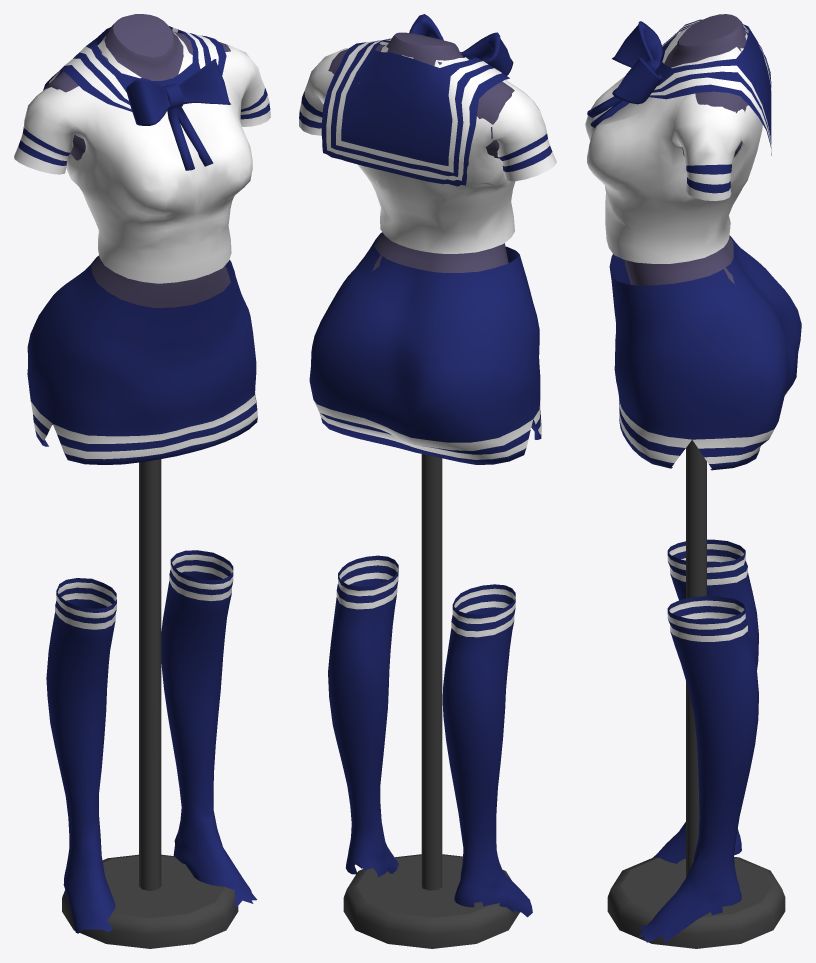
The model's file is Dress_12.fbx.
3 renders of one model, left to right at view 1: azimuth 30°, elevation 25°; view 2: azimuth 150°, elevation 25°; view 3: azimuth 270°, elevation 25°, orthographic.
Visible parts, largest first — view 1: dress_11, dress_11_stockings, dummy_1; view 2: dress_11, dress_11_stockings, dummy_1; view 3: dress_11, dress_11_stockings, dummy_1.
Part boxes in pixels (x1=…): dress_11: x1=14, y1=26, x2=270, y2=464; dress_11_stockings: x1=46, y1=550, x2=256, y2=933; dummy_1: x1=45, y1=14, x2=238, y2=948; dress_11: x1=299, y1=14, x2=556, y2=464; dress_11_stockings: x1=328, y1=555, x2=532, y2=917; dummy_1: x1=328, y1=32, x2=519, y2=948; dress_11: x1=585, y1=19, x2=801, y2=470; dress_11_stockings: x1=638, y1=539, x2=758, y2=943; dummy_1: x1=607, y1=14, x2=785, y2=948.
Bounding box in the file's own units: 0.4939 × 1.66 × 0.3673.
